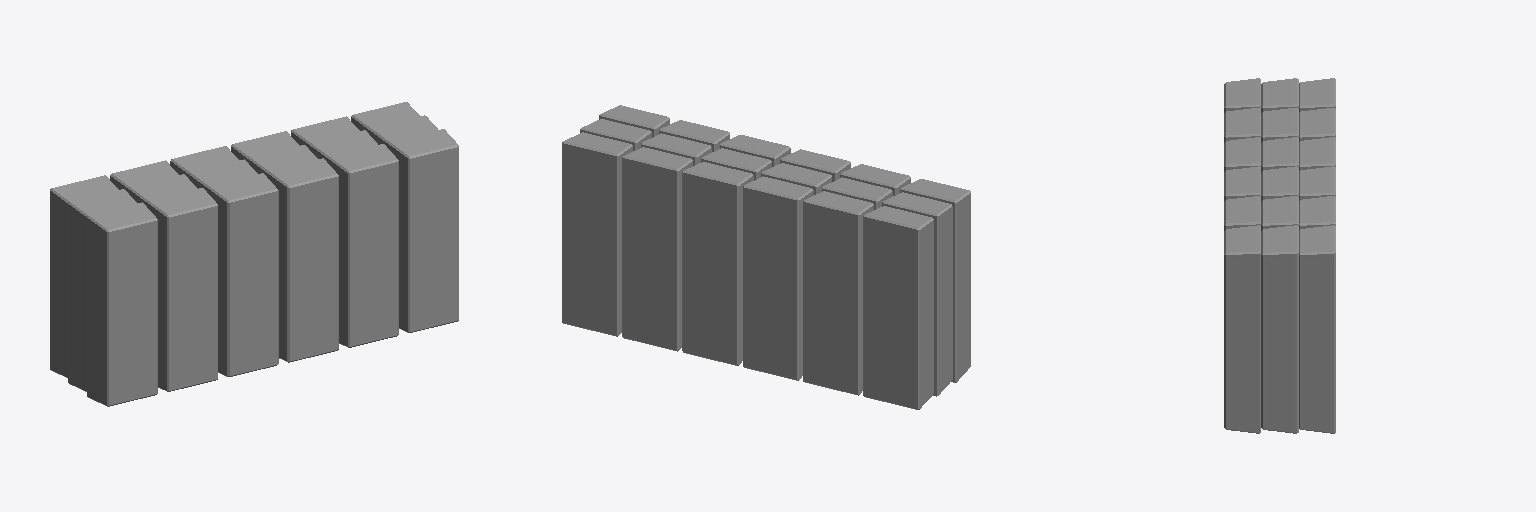
File: gen_pku_gold_a.obj
3 renders of one model, left to right at view 1: azimuth 30°, elevation 25°; view 2: azimuth 150°, elevation 25°; view 3: azimuth 270°, elevation 25°, orthographic.
Parts seen in each view (by area): view 1: g_g; view 2: g_g; view 3: g_g.
Boxes of the visible parts, box(x1,y1,x2,y2) form: g_g: box(50, 102, 458, 406); g_g: box(562, 105, 970, 409); g_g: box(1224, 78, 1335, 433).
Bounding box in the file's own units: 59.44 × 28.94 × 16.